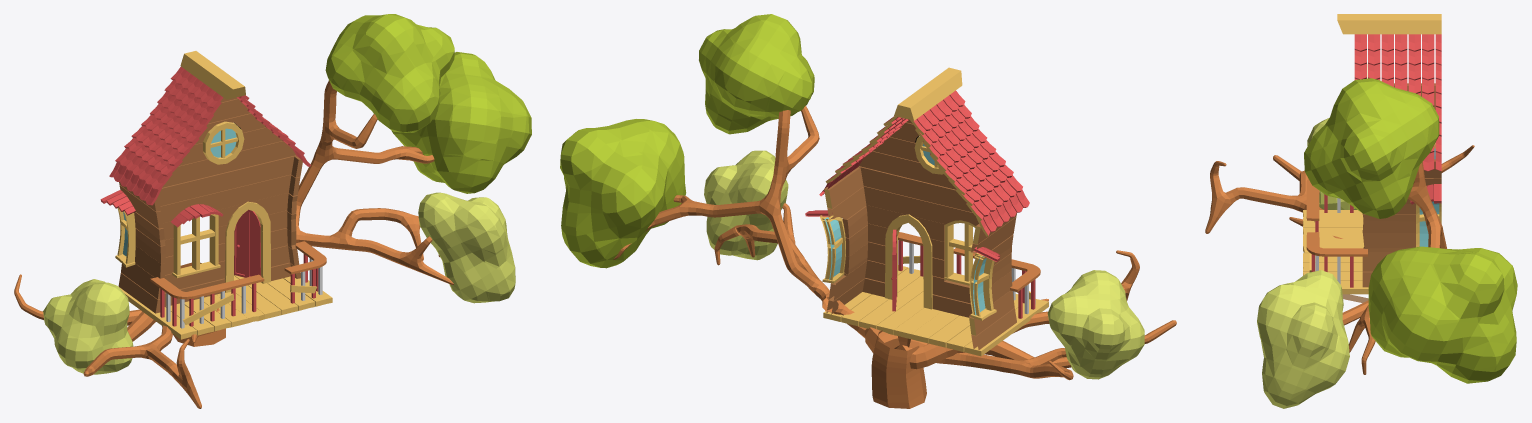
The model's file is tree_top_house.gltf.
3 renders of one model, left to right at view 1: azimuth 30°, elevation 25°; view 2: azimuth 150°, elevation 25°; view 3: azimuth 270°, elevation 25°, orthographic. The views are drawn at different scales.
Parts seen in each view (by area): view 1: house, branch2, branch1, floor, door, trunk; view 2: house, branch2, branch1, trunk, floor; view 3: branch2, house, floor, branch1.
Boxes of the visible parts, x1,y1,x2,y2 form: house: (100,51,332,339); branch2: (296,14,531,303); branch1: (14,274,141,374); floor: (83,308,219,408); door: (234,209,261,277); trunk: (173,262,225,346); house: (805,67,1048,356); branch2: (560,14,866,338); branch1: (909,270,1144,380); trunk: (864,327,926,408); floor: (902,250,1176,369); branch2: (1257,78,1517,408); house: (1303,14,1441,294); floor: (1205,155,1342,238); branch1: (1307,118,1474,209).
Size of the model in its own units: 40.38 by 22.77 by 19.95.
